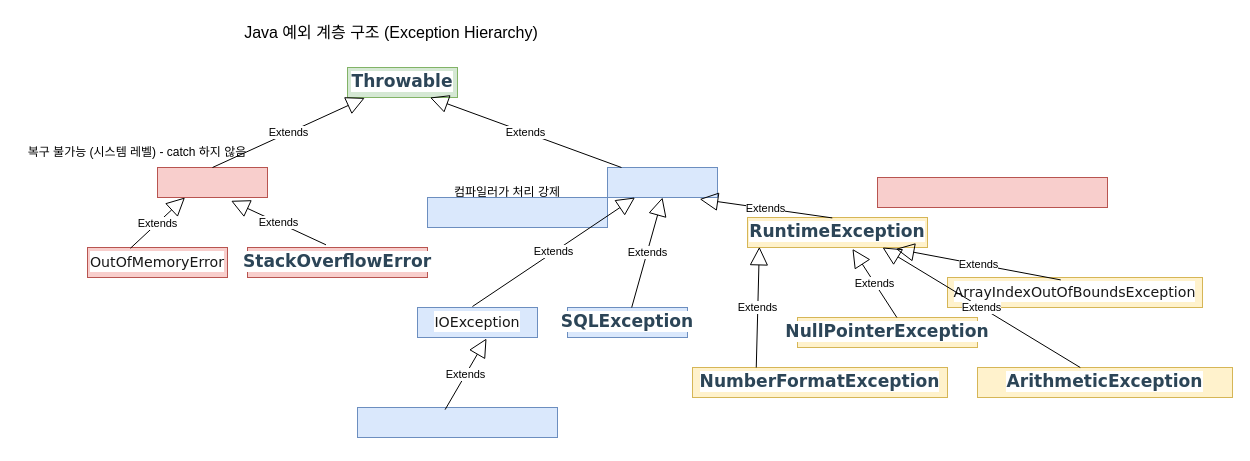
The diagram is 1250 pixels wide and 461 high, and some of its shapes have lost their labels. Each missing label, with the box of its shape:
Checked Exception: (426, 196, 608, 228)
Error: (156, 166, 268, 198)
Exception: (606, 166, 718, 198)
FileNotFoundException: (356, 406, 558, 438)
unChecked Exception: (876, 176, 1108, 208)
